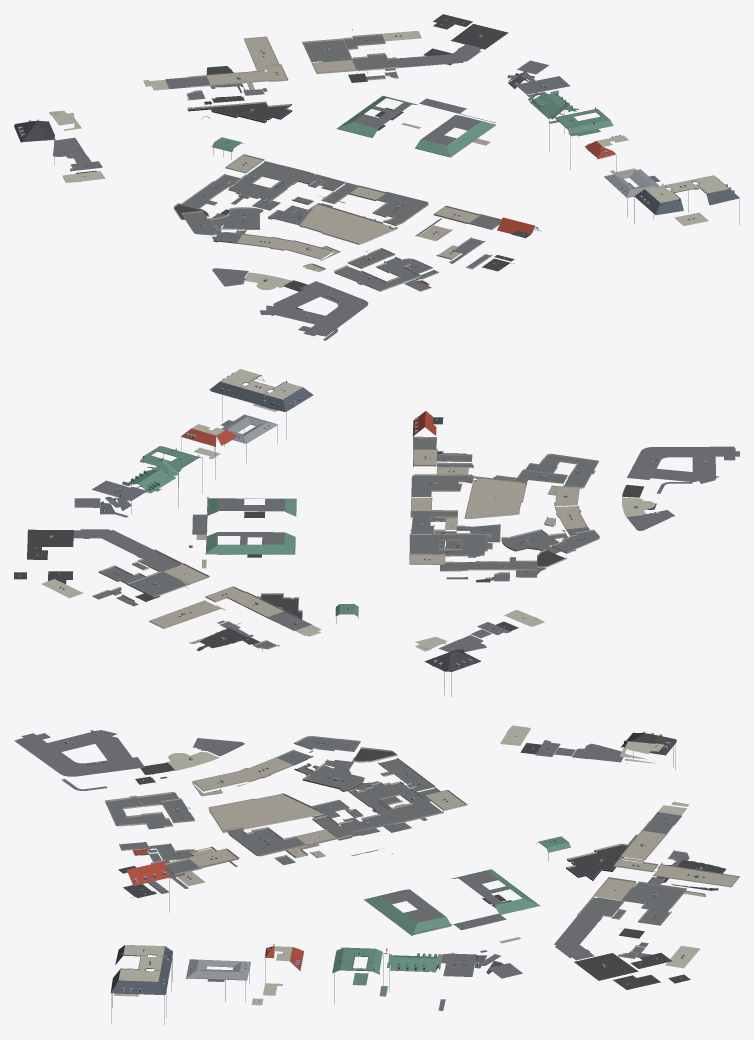
File: bldg_roof.glb
3 renders of one model, top to bottom at view 1: azimuth 30°, elevation 25°; view 2: azimuth 150°, elevation 25°; view 3: azimuth 270°, elevation 25°, orthographic. The views are drawn at different scales.
Parts seen in each view (by area): view 1: bldg_roof__Roof Fascia, bldg_roof__Roof Bitumen R2 v3 relief, bldg_roof__Roof Gravel R2 v3 relief, bldg_roof__Roof Zinc, bldg_roof__Roof Copper R2 v4 relief, bldg_roof__Roof Membrane R2 v3 relief; view 2: bldg_roof__Roof Fascia, bldg_roof__Roof Bitumen R2 v3 relief, bldg_roof__Roof Gravel R2 v3 relief, bldg_roof__Roof Zinc, bldg_roof__Roof Copper R2 v4 relief, bldg_roof__Roof Membrane R2 v3 relief; view 3: bldg_roof__Roof Fascia, bldg_roof__Roof Bitumen R2 v3 relief, bldg_roof__Roof Gravel R2 v3 relief, bldg_roof__Roof Zinc, bldg_roof__Roof Copper R2 v4 relief, bldg_roof__Roof Membrane R2 v3 relief.
Boxes of the visible parts, left/top/right/bottom form: bldg_roof__Roof Fascia: left=14, top=14, right=739, bottom=340; bldg_roof__Roof Bitumen R2 v3 relief: left=182, top=29, right=500, bottom=291; bldg_roof__Roof Gravel R2 v3 relief: left=206, top=37, right=490, bottom=271; bldg_roof__Roof Zinc: left=14, top=19, right=739, bottom=318; bldg_roof__Roof Copper R2 v4 relief: left=212, top=90, right=613, bottom=157; bldg_roof__Roof Membrane R2 v3 relief: left=174, top=96, right=403, bottom=219; bldg_roof__Roof Fascia: left=14, top=369, right=739, bottom=671; bldg_roof__Roof Bitumen R2 v3 relief: left=94, top=438, right=599, bottom=648; bldg_roof__Roof Gravel R2 v3 relief: left=150, top=449, right=586, bottom=642; bldg_roof__Roof Zinc: left=19, top=373, right=707, bottom=696; bldg_roof__Roof Copper R2 v4 relief: left=122, top=446, right=358, bottom=616; bldg_roof__Roof Membrane R2 v3 relief: left=217, top=511, right=564, bottom=644; bldg_roof__Roof Fascia: left=14, top=725, right=739, bottom=1010; bldg_roof__Roof Bitumen R2 v3 relief: left=106, top=737, right=688, bottom=958; bldg_roof__Roof Gravel R2 v3 relief: left=177, top=758, right=738, bottom=961; bldg_roof__Roof Zinc: left=65, top=731, right=739, bottom=1025; bldg_roof__Roof Copper R2 v4 relief: left=332, top=836, right=570, bottom=995; bldg_roof__Roof Membrane R2 v3 relief: left=354, top=749, right=668, bottom=907.
Size of the model in its own units: 357 by 32.74 by 409.
10 materials, 10 textured.
